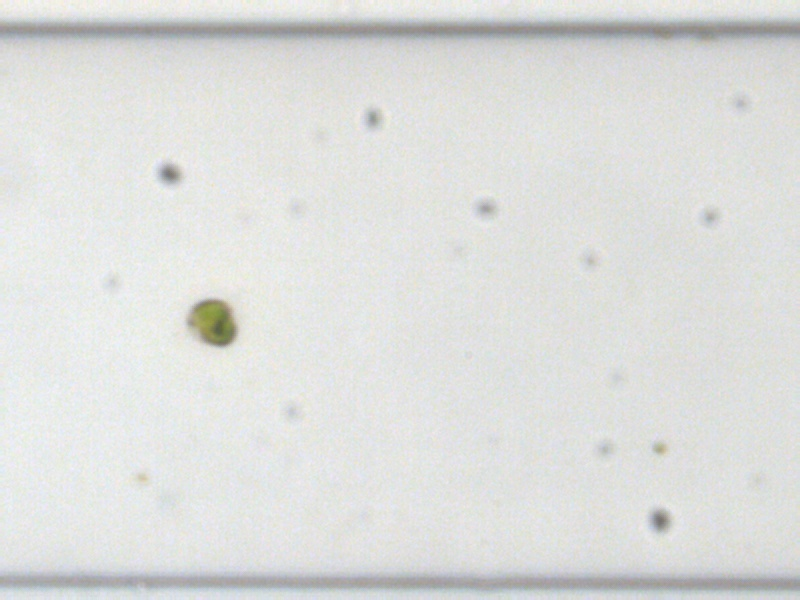Chlorella: (652, 435, 666, 454), (134, 469, 150, 484)
Platymonas: (184, 299, 237, 348)
